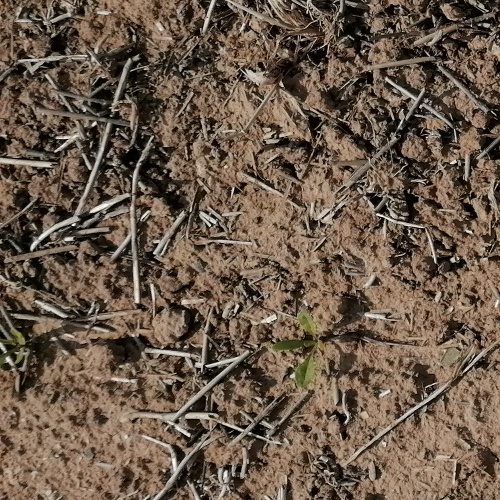beet: (270, 312, 323, 388), (0, 329, 32, 368)
